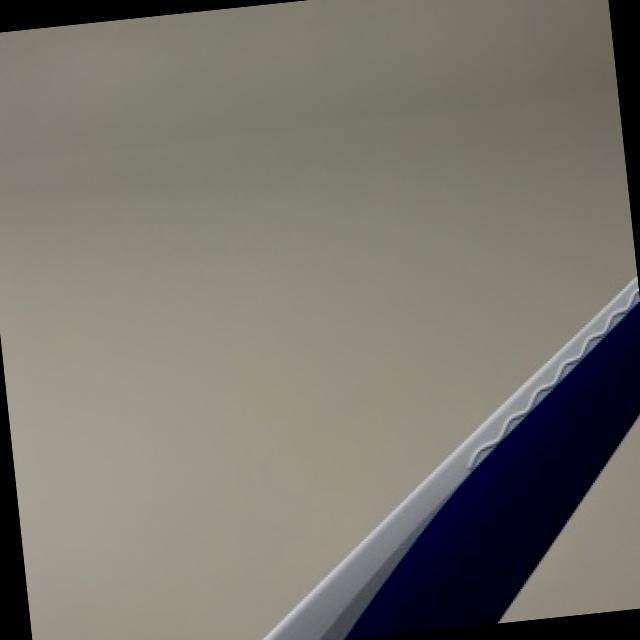healthy: (264, 274, 640, 640)
